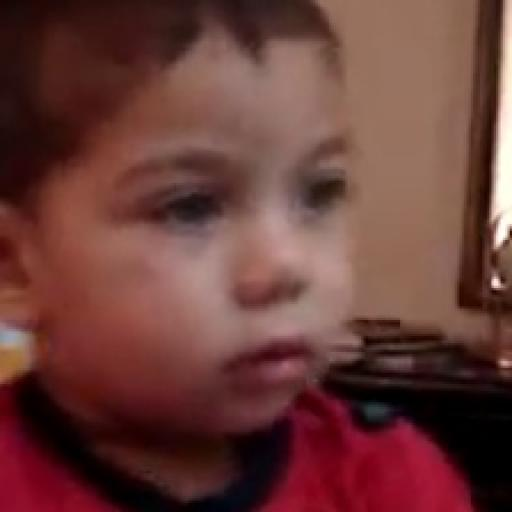Autism: (16, 4, 455, 460)
